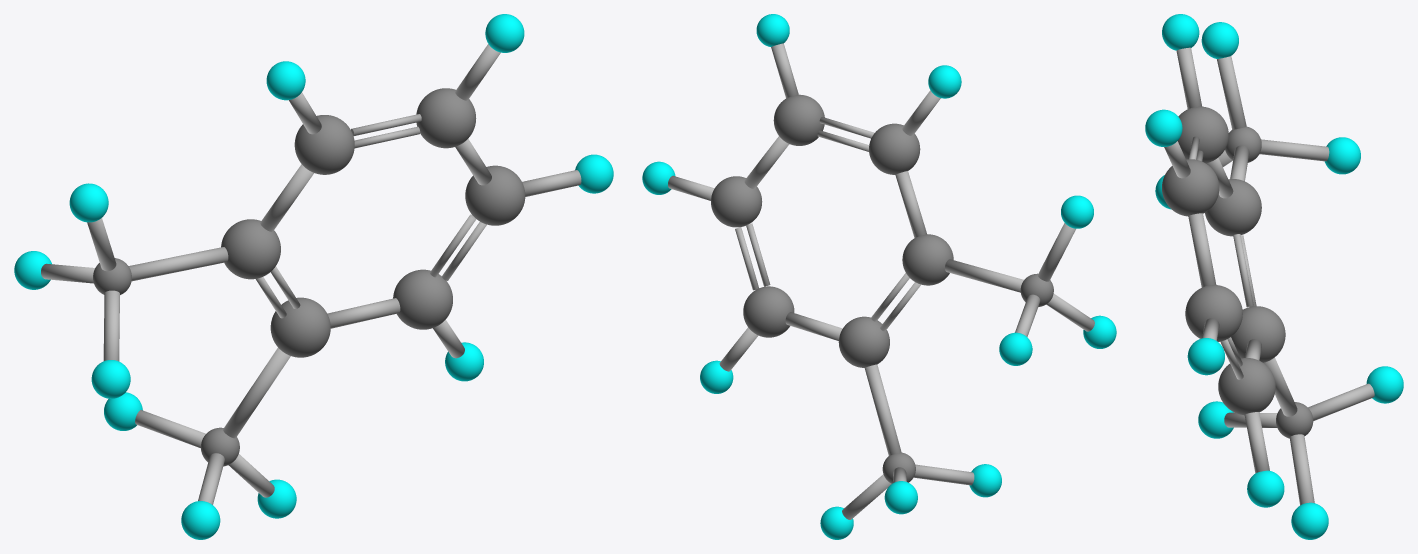
Rendered from o-xylene.glb.
The picture shows the model from 3 angles, left to right: view 1: azimuth 30°, elevation 25°; view 2: azimuth 150°, elevation 25°; view 3: azimuth 270°, elevation 25°; orthographic projection. The views are drawn at different scales.
Parts seen in each view (by area): view 1: CMAtom_0; view 2: CMAtom_0; view 3: CMAtom_0.
Part boxes in pixels (x1,y1,x2,y2): CMAtom_0: (14, 14, 613, 539); CMAtom_0: (642, 14, 1116, 539); CMAtom_0: (1145, 14, 1403, 539).
Bounding box in the file's own units: 0.6316 × 0.588 × 0.277.
